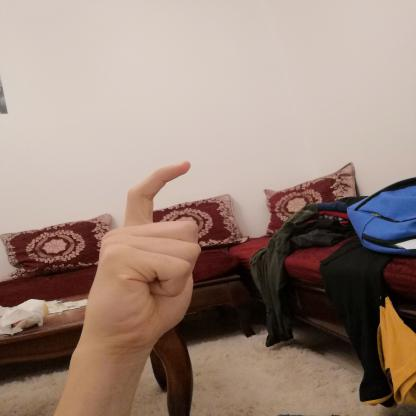RAA: (69, 153, 214, 357)
